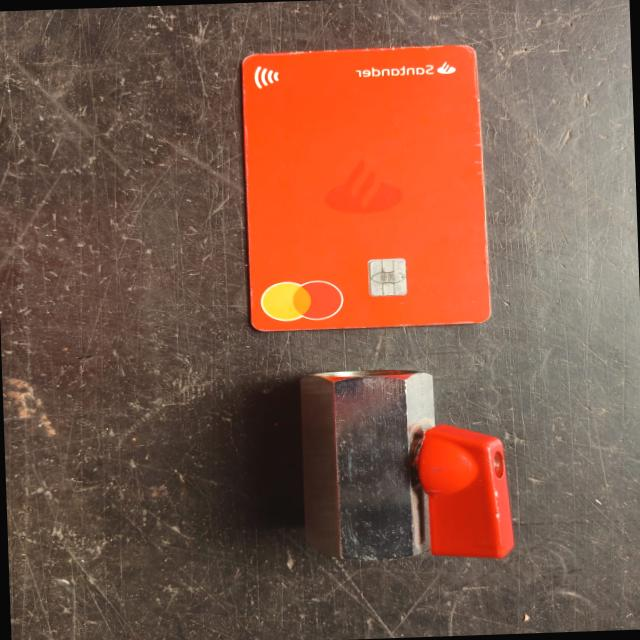cartao: (240, 43, 489, 332)
rosca_interna: (298, 364, 515, 563)
